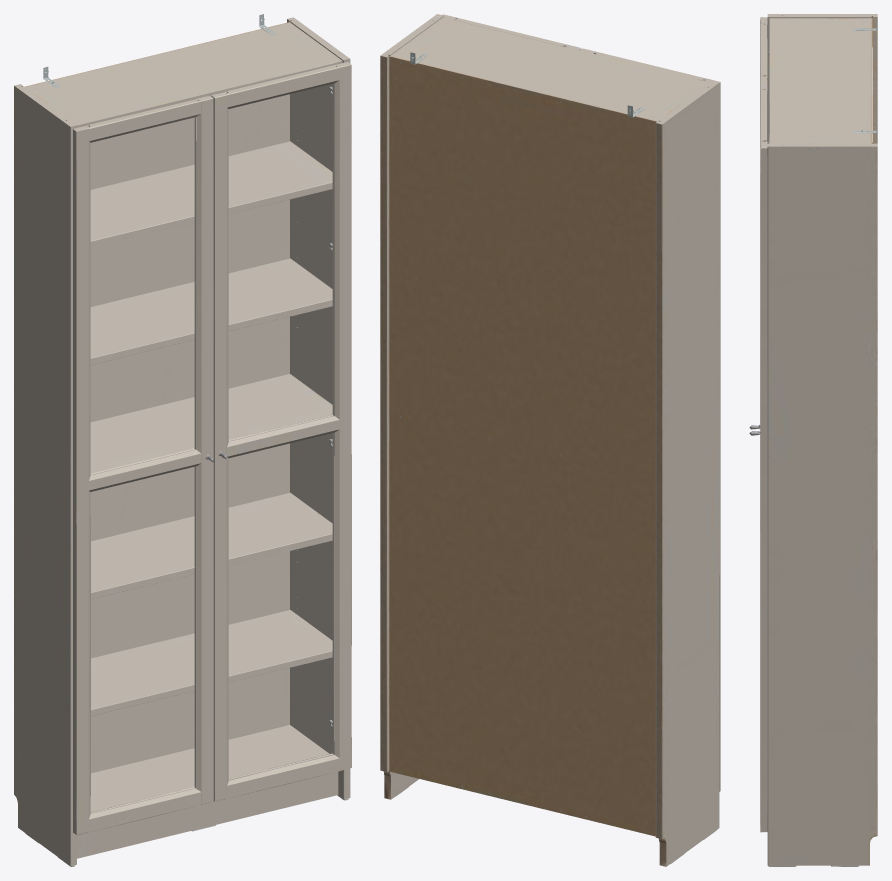
The model's file is 4nlnk466dsvl.glb.
The picture shows the model from 3 angles, left to right: view 1: azimuth 30°, elevation 25°; view 2: azimuth 150°, elevation 25°; view 3: azimuth 270°, elevation 25°; orthographic projection. The views are drawn at different scales.
Parts seen in each view (by area): view 1: 1; view 2: 1; view 3: 1.
Part boxes in pixels (x1=…): 1: x1=14, y1=14, x2=351, y2=866; 1: x1=380, y1=14, x2=720, y2=866; 1: x1=749, y1=14, x2=877, y2=866.
Size of the model in its own units: 0.7998 by 2.05 by 0.3272.
Materials: 2 (2 with a texture image).
